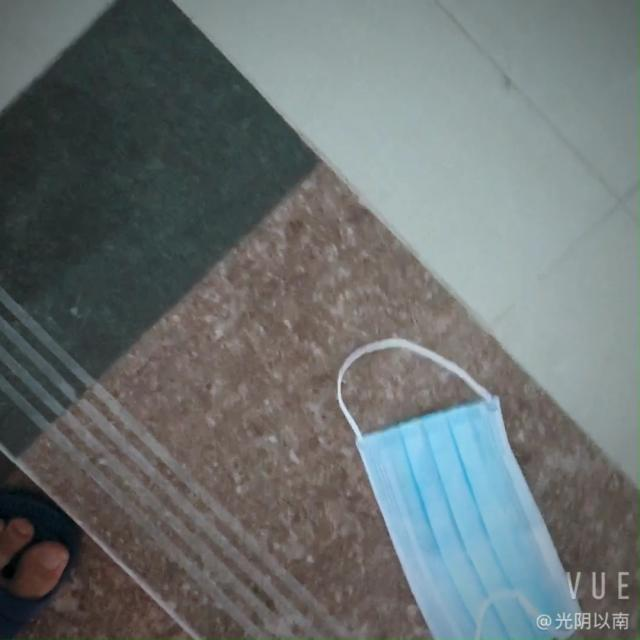non-organic waste: (352, 385, 576, 637)
